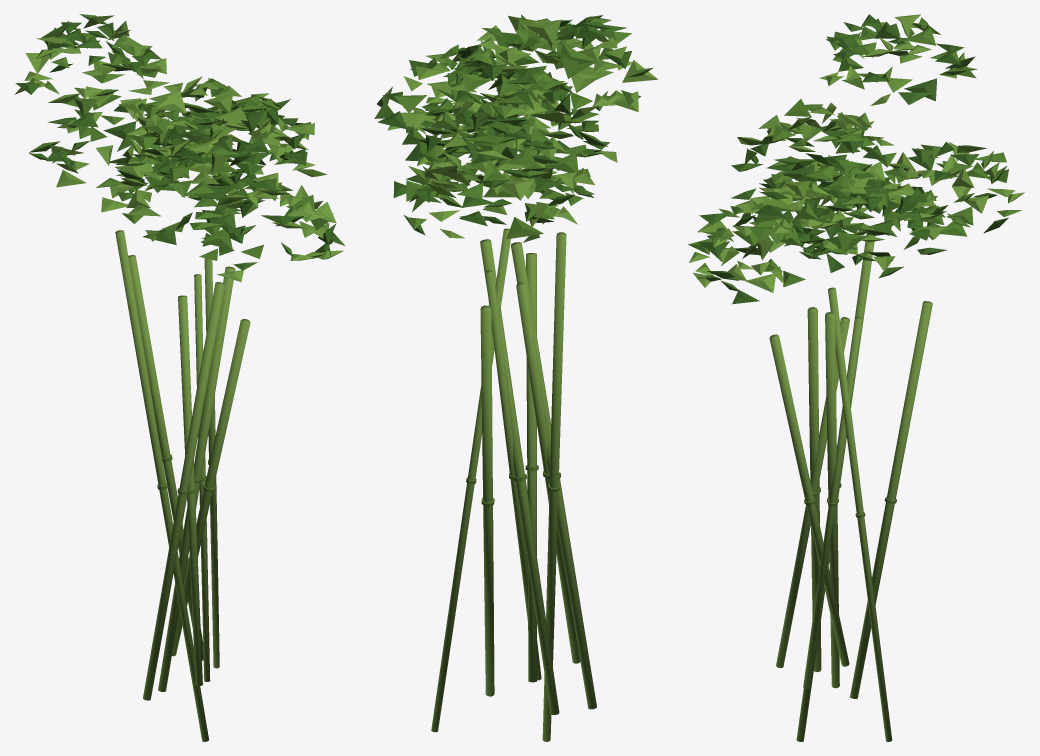
Rendered from bamboo.glb.
The picture shows the model from 3 angles, left to right: view 1: azimuth 30°, elevation 25°; view 2: azimuth 150°, elevation 25°; view 3: azimuth 270°, elevation 25°; orthographic projection. The views are drawn at different scales.
Parts seen in each view (by area): view 1: bamboo; view 2: bamboo; view 3: bamboo.
Boxes of the visible parts, left/top/right/bottom form: bamboo: left=14, top=14, right=344, bottom=741; bamboo: left=374, top=14, right=658, bottom=741; bamboo: left=688, top=14, right=1024, bottom=741.
Size of the model in its own units: 4.71 by 11.78 by 5.2.
